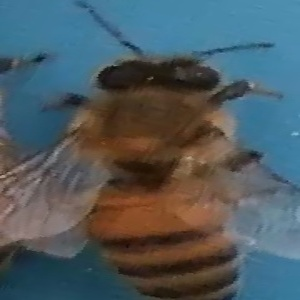bee: (15, 4, 295, 299)
